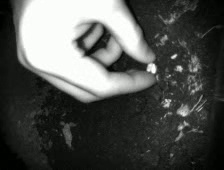corn: (149, 61, 159, 78), (145, 59, 154, 75)
